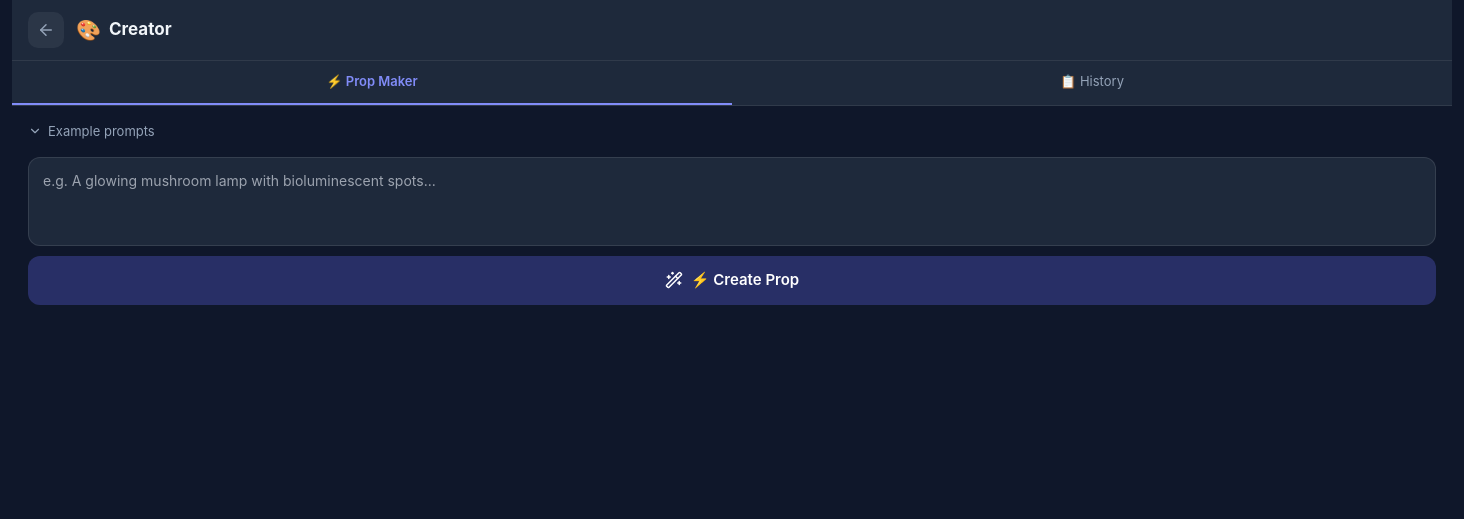
it: MobileCreatorView › shows history tab with empty state when no records
This screenshot has width=1464, height=519.
Click the button "📋 History" at [1092, 83], box x1=732 y1=61 x2=1452 y2=104
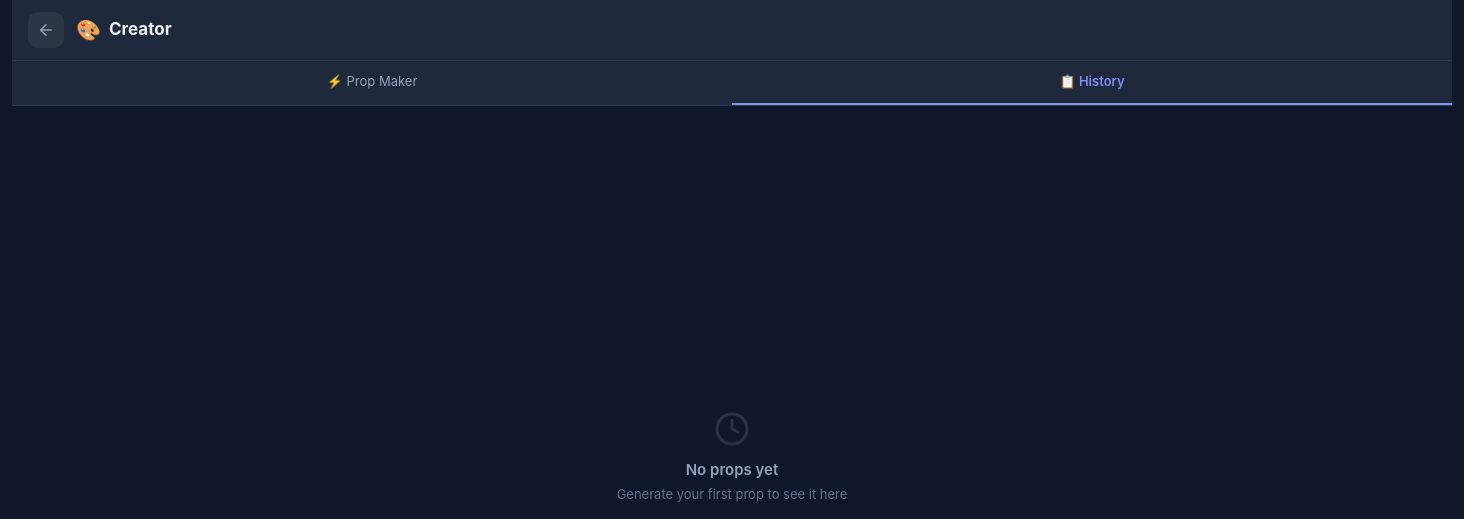
Result: the text "No props yet" is shown at x1=686 y1=460 x2=778 y2=479
